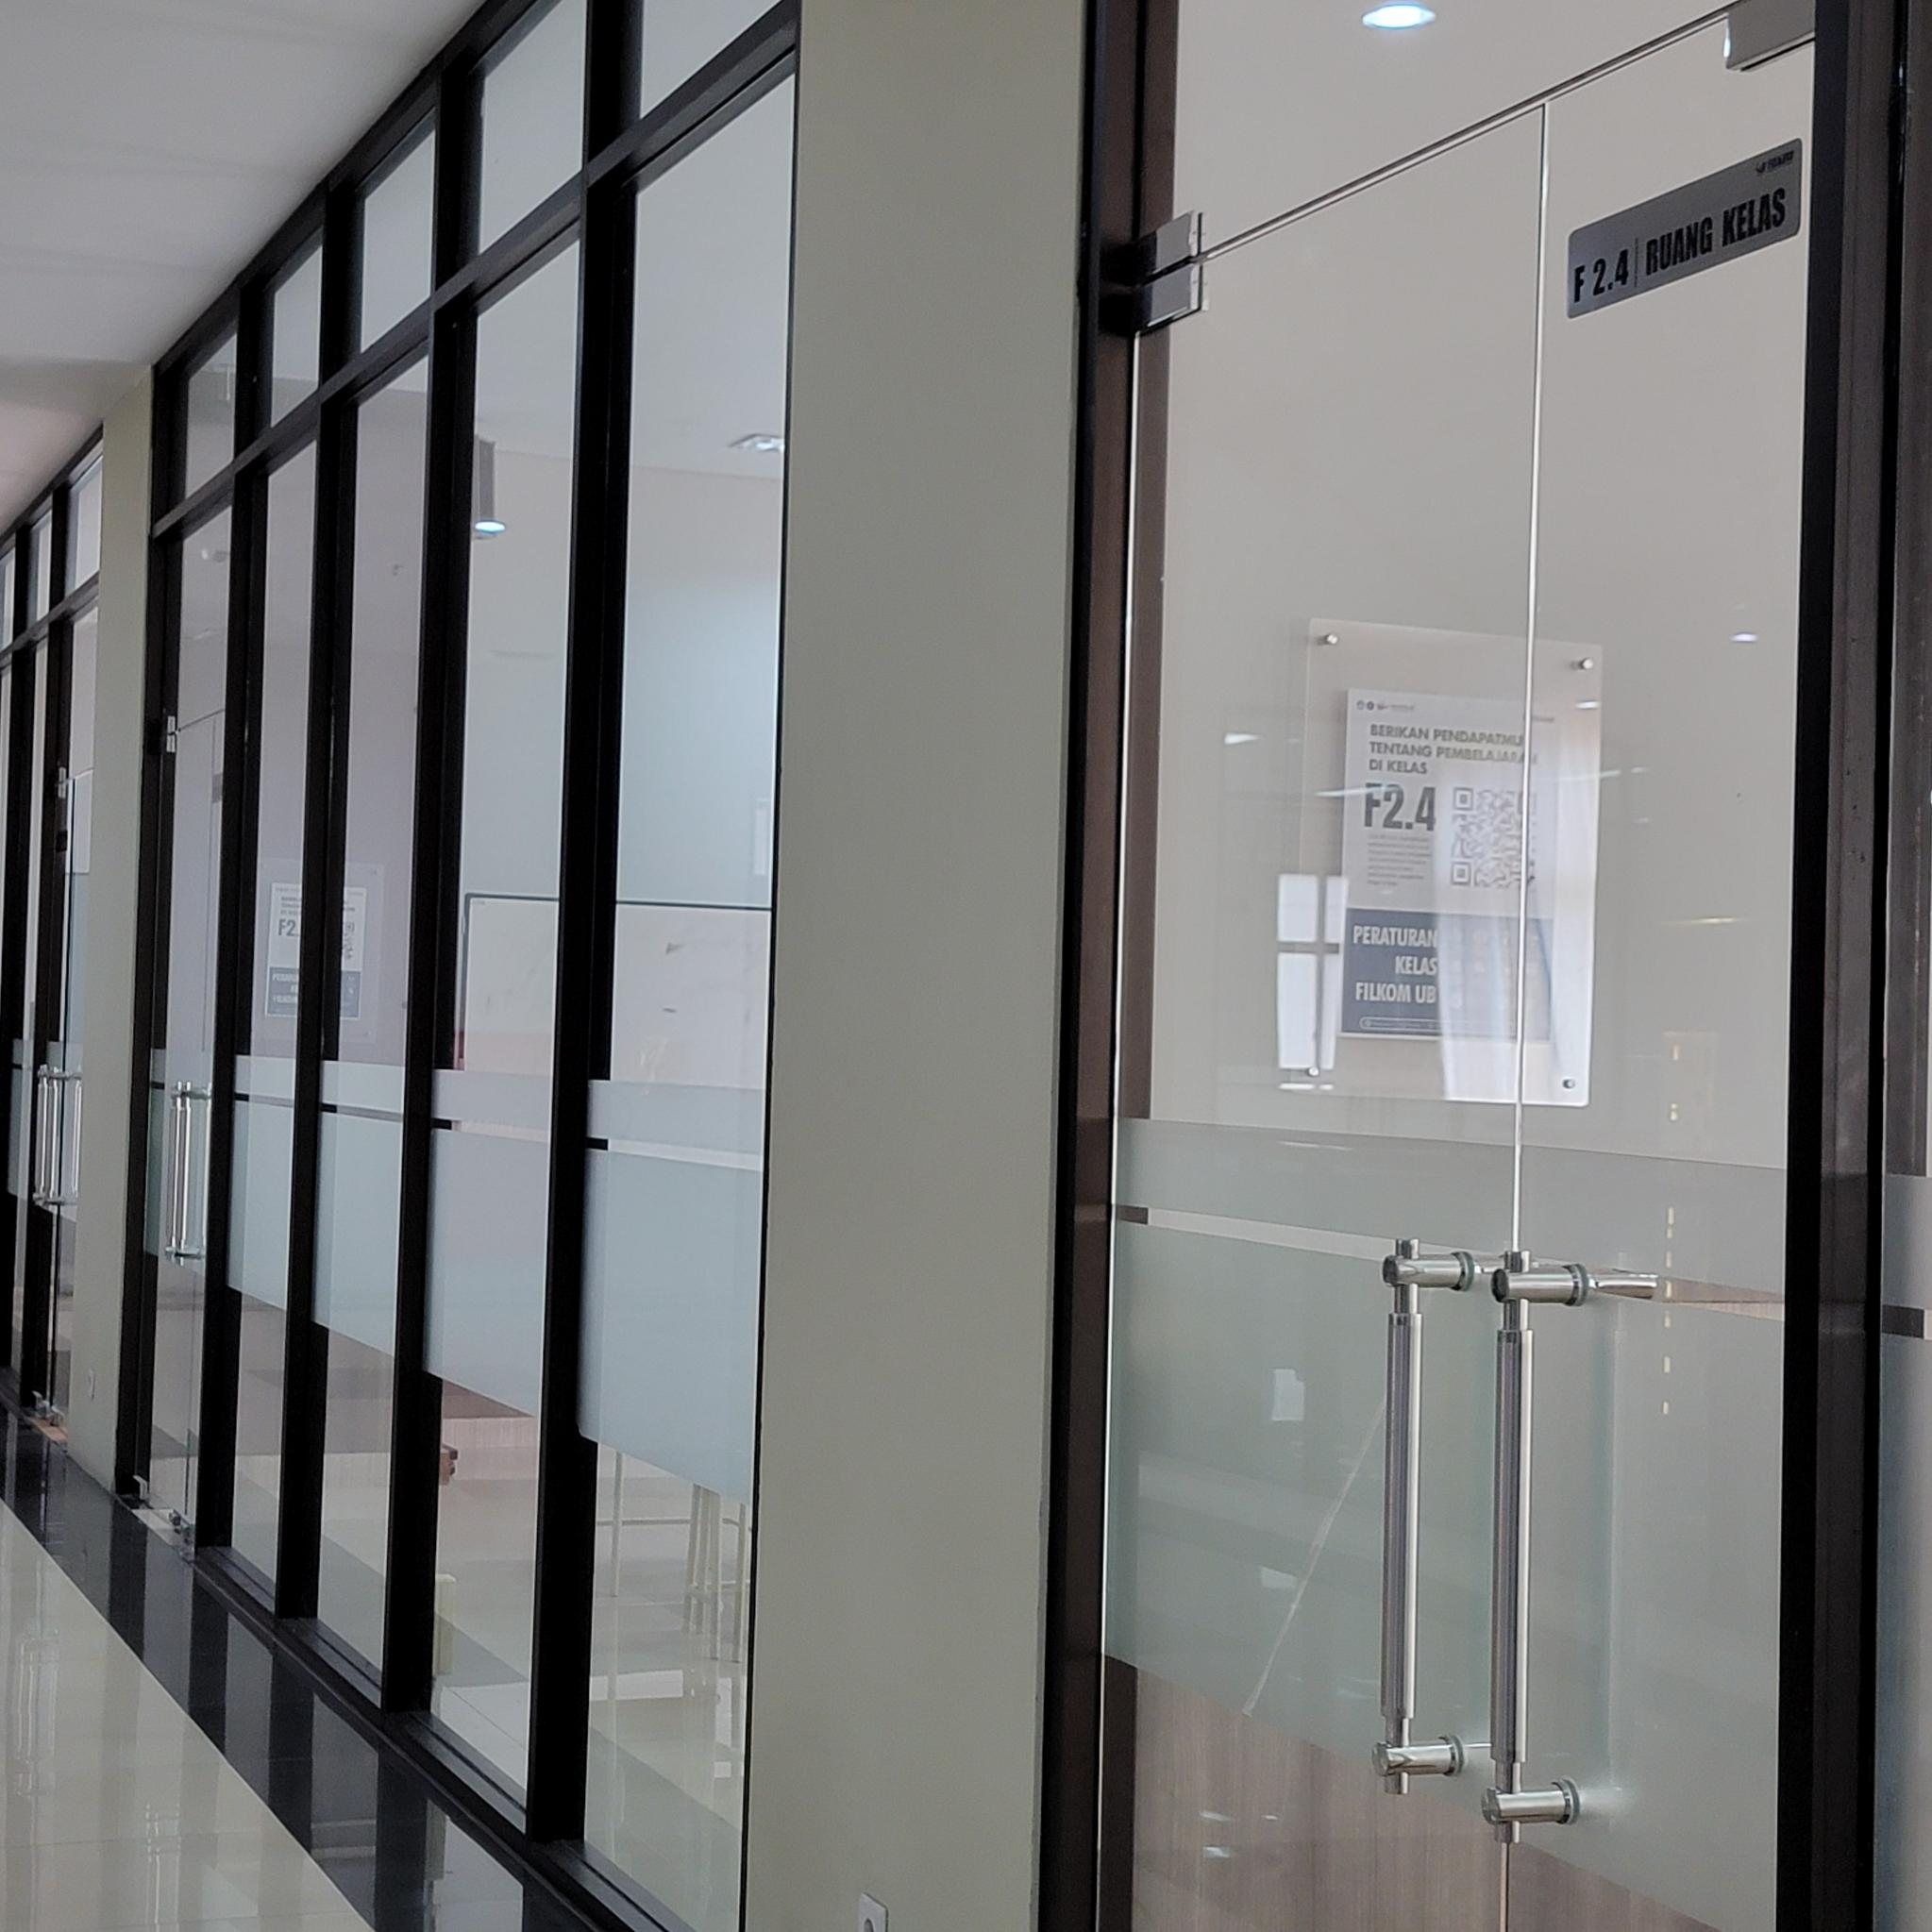plate: (1564, 138, 1803, 318)
